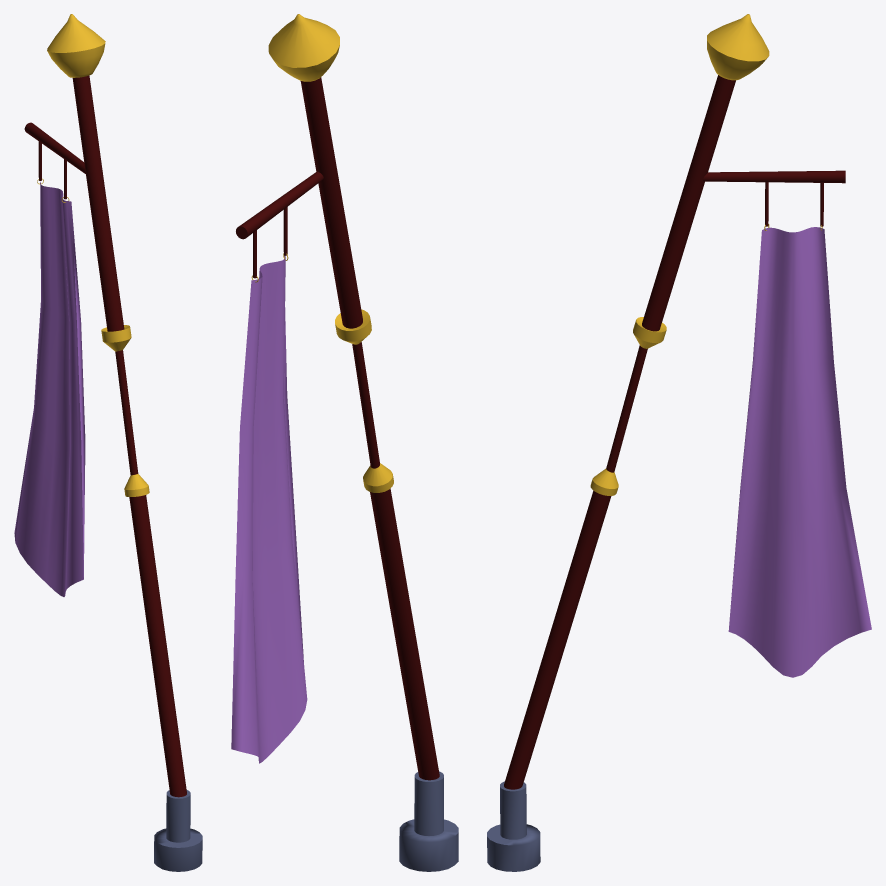
Rendered from banderolaflip2.fbx.
3 views of the same model, side by side, from view 1: azimuth 30°, elevation 25°; view 2: azimuth 150°, elevation 25°; view 3: azimuth 270°, elevation 25° (orthographic). The views are drawn at different scales.
Visible parts, largest first — view 1: Object001; view 2: Object001; view 3: Object001.
Part boxes in pixels (bbox=[...]): Object001: bbox=[14, 14, 202, 871]; Object001: bbox=[231, 14, 458, 871]; Object001: bbox=[487, 14, 871, 871].
Bounding box in the file's own units: 211 × 2997 × 1235.
